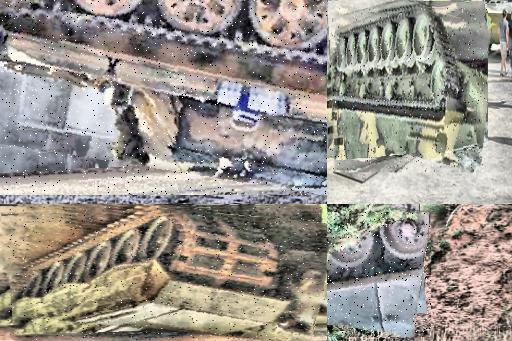tanks: (1, 1, 328, 196), (9, 209, 327, 341), (330, 10, 488, 172), (328, 214, 432, 337), (485, 1, 512, 50)
